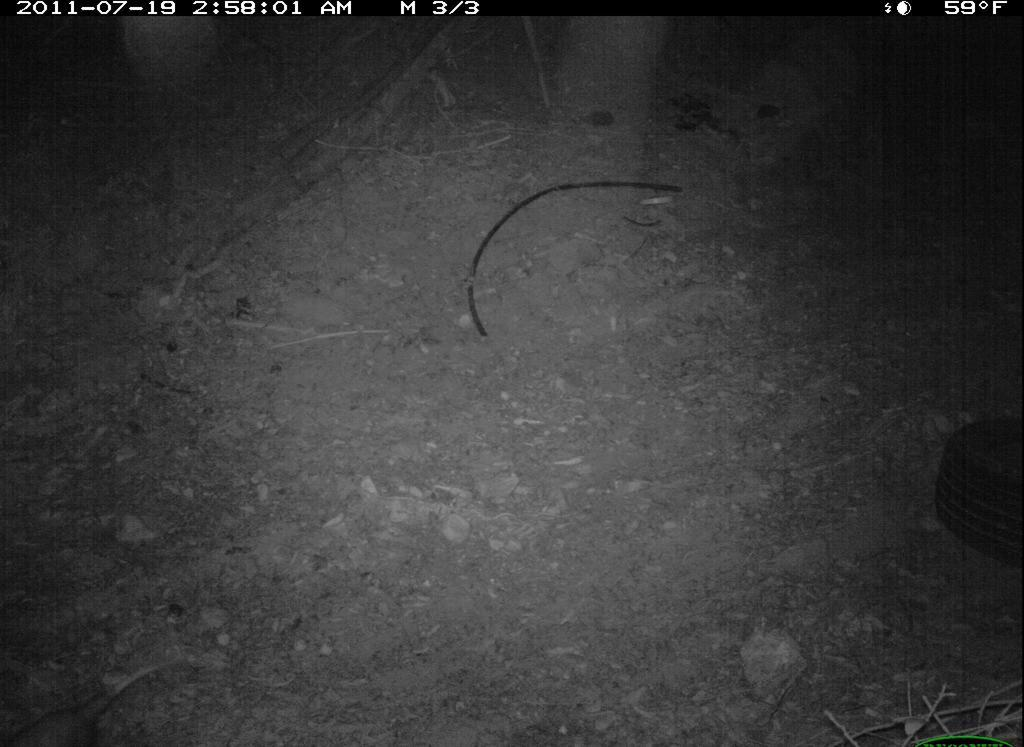opossum: (3, 644, 191, 747)
